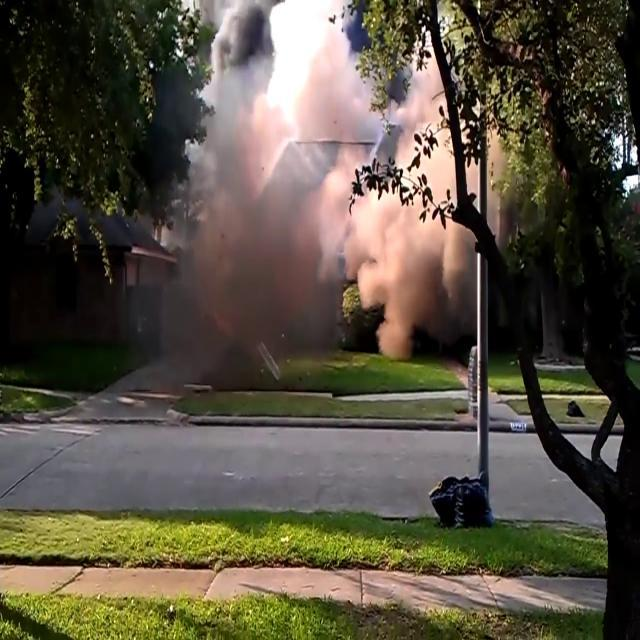Smoke: (141, 15, 362, 383), (358, 159, 483, 383)
